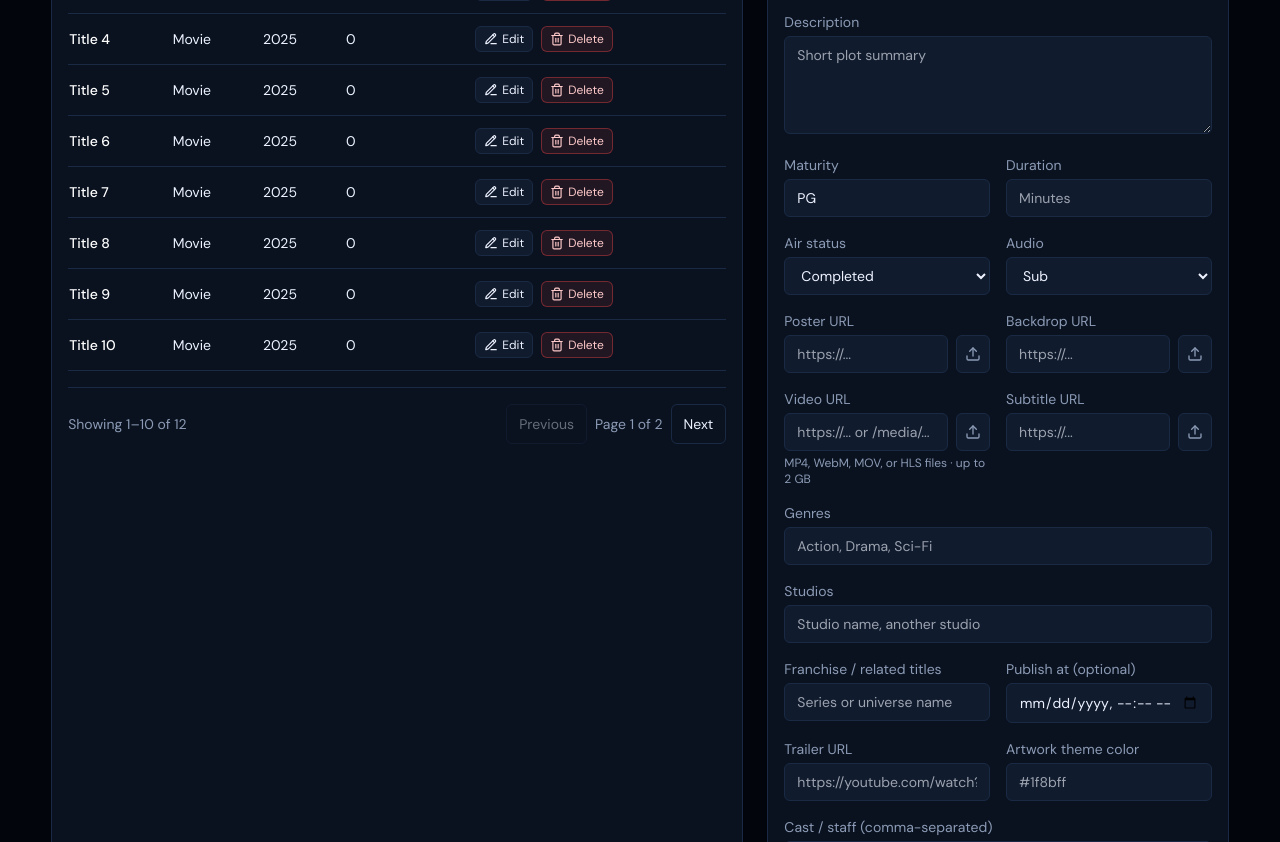
Scenario: AdminDashboard › paginates title results
(page scrolled)
expect the text "Title 11" is not shown: met
Click the button "Next".
click(698, 424)  # box [671,404,726,444]
(page scrolled)
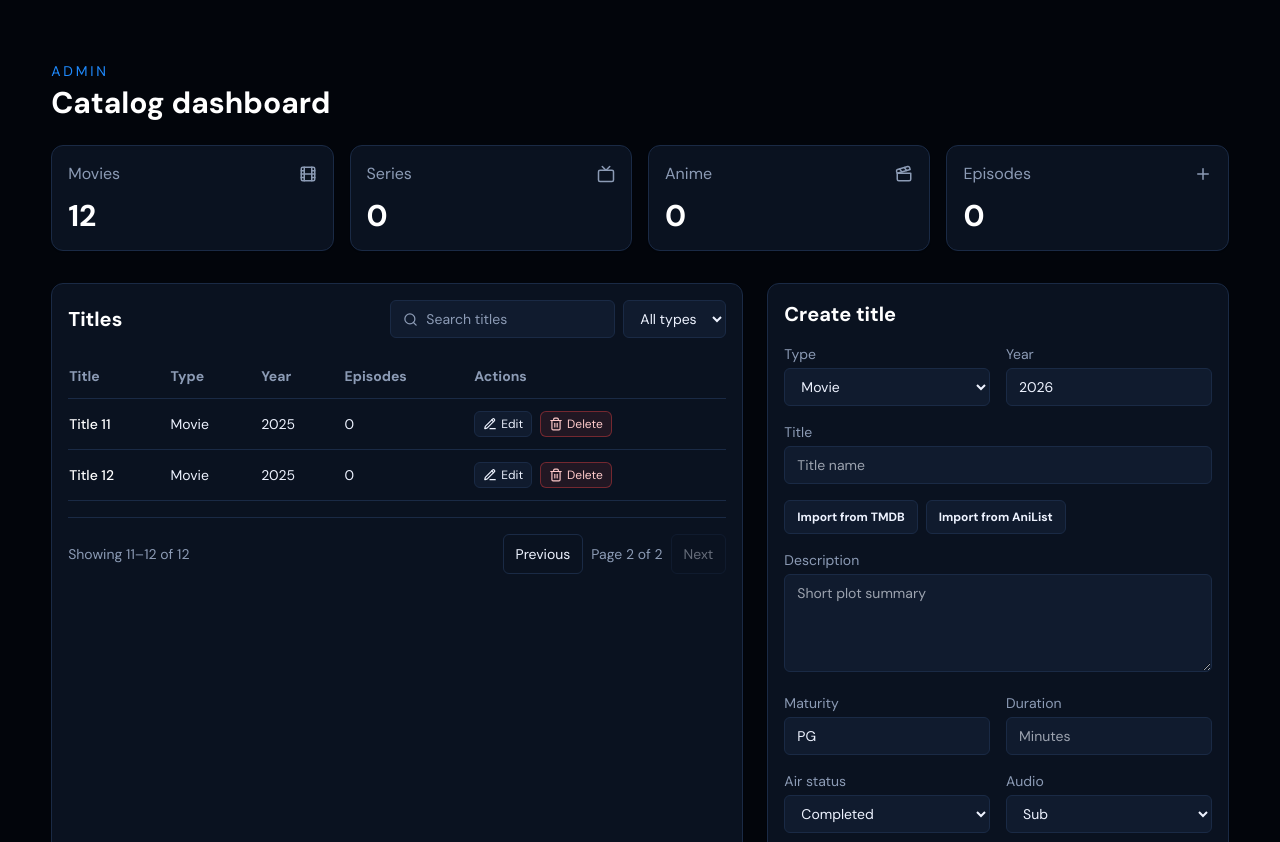
expect the button "Title 11" is shown: met, box [69,414,111,434]
